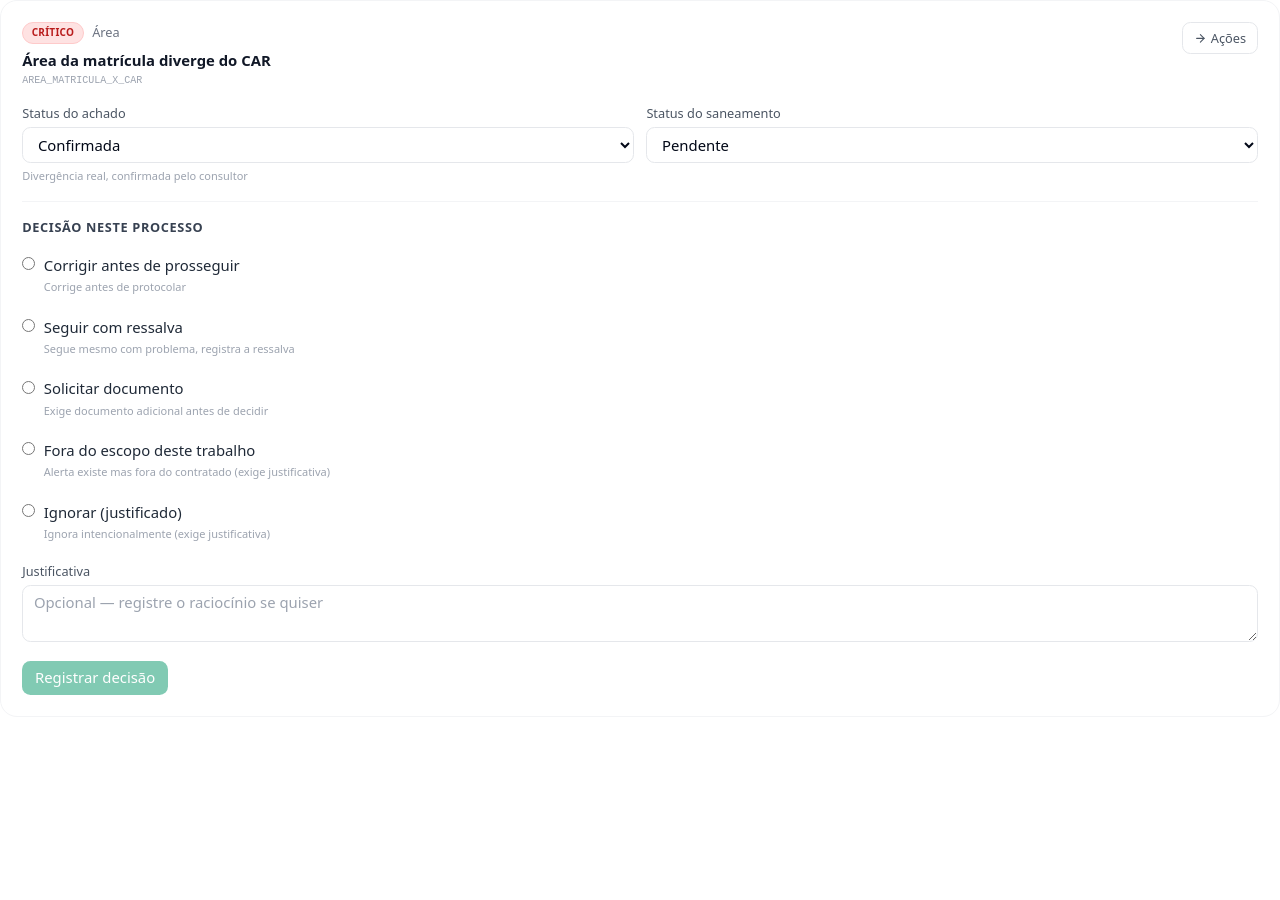
Test: AlertaCard — justificativa obrigatória (#19) › NÃO exige justificativa pra corrigir_antes
What coordinates should you click on to do the following:
click the radio button labelled "Corrigir antes de prosseguir Corrige antes de protocolar"
I would click on:
 (29, 264)
Its box is [22, 257, 35, 270].
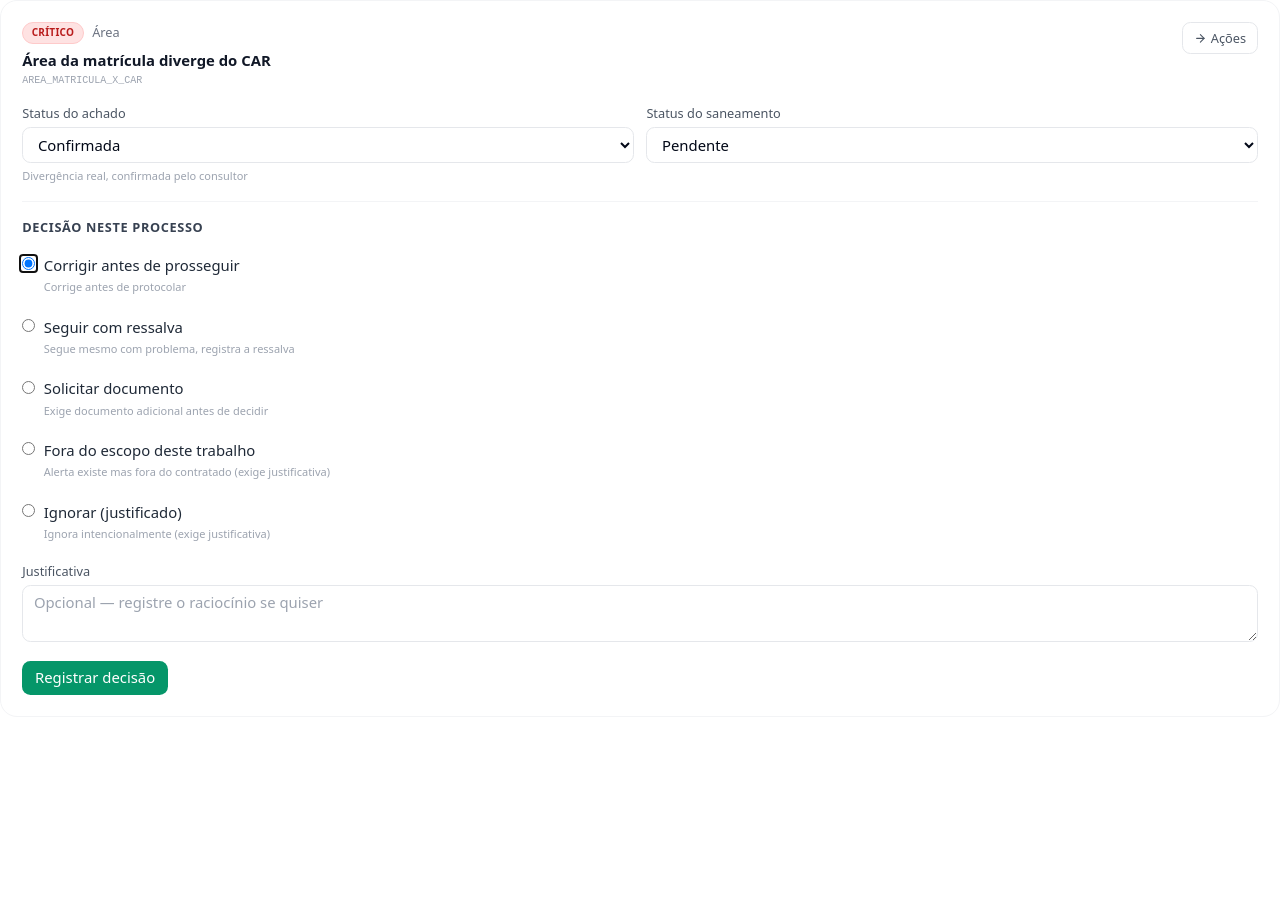
Now the button "Registrar decisão" is enabled, box [22, 661, 168, 695]
